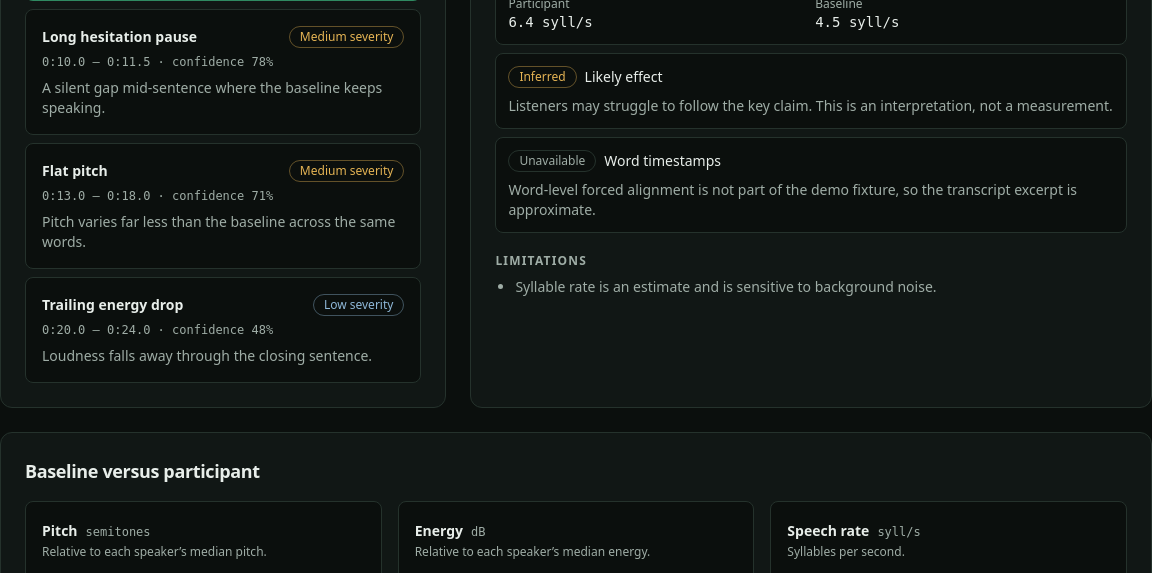
Test: Dashboard › shows evidence, confidence and limitations for the selected finding
(page scrolled)
Click the button "Trailing energy drop": [223, 330] box top-left (25, 277), bottom-right (421, 383)
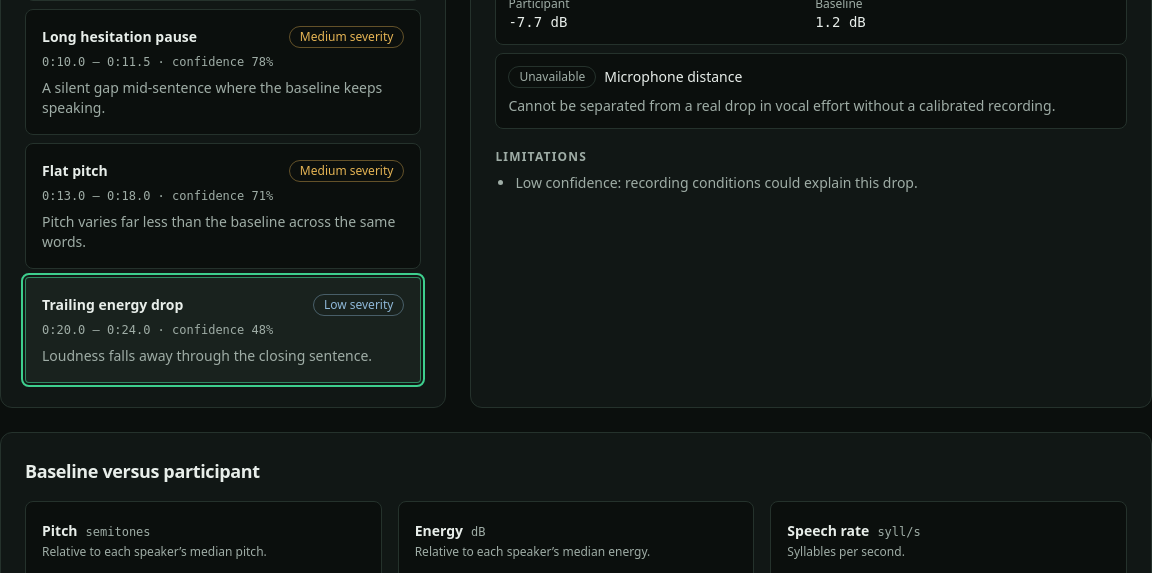
Expected: the text "Unavailable" is shown, top-left (508, 66), bottom-right (596, 88)
Expected: the list item "recording conditions could explain" is shown, top-left (515, 173), bottom-right (918, 192)
